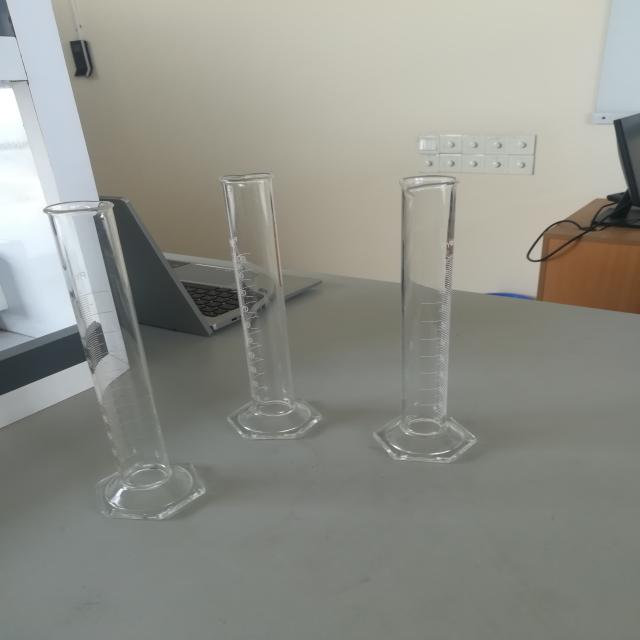Measuring_Cylinder: (22, 182, 213, 552), (355, 136, 516, 496), (194, 144, 346, 467)
